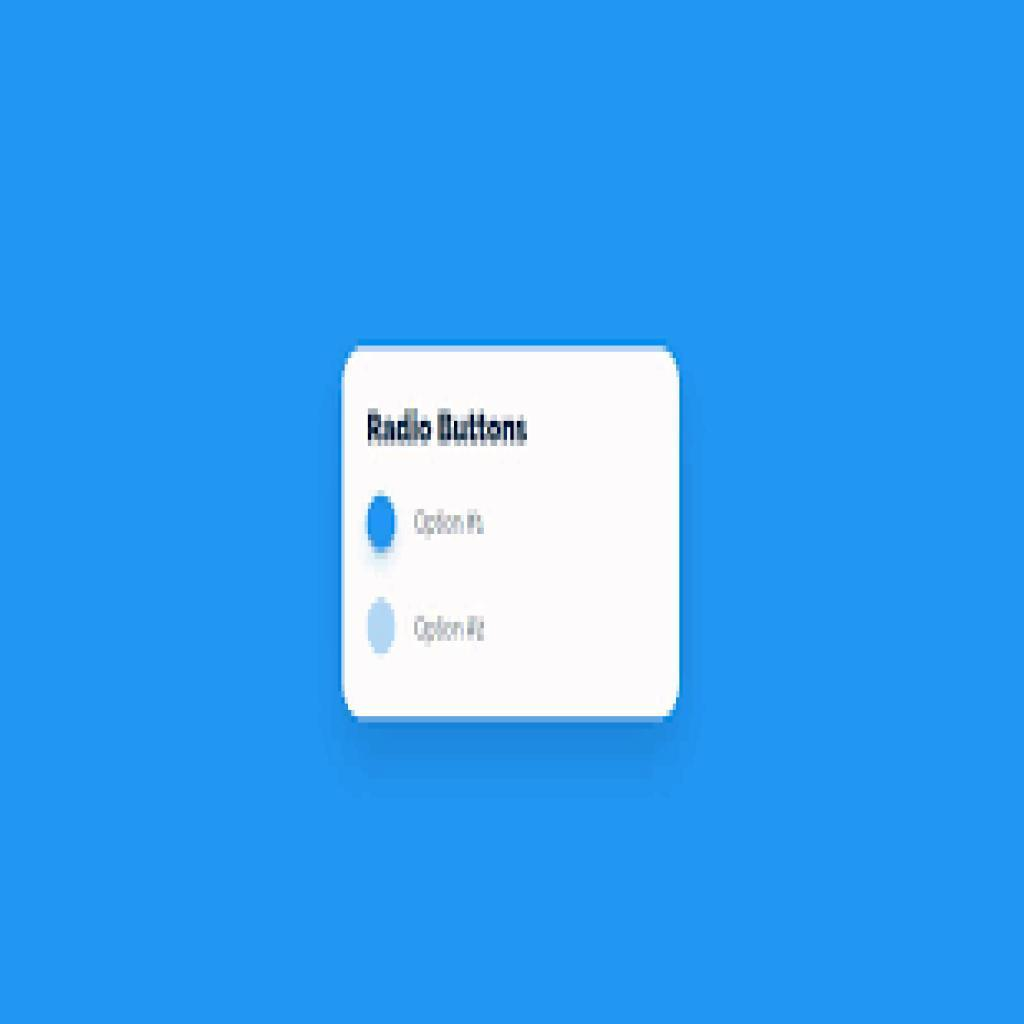label: (365, 404, 533, 457), (408, 614, 497, 654), (411, 504, 492, 547)
radio: (364, 492, 398, 559), (365, 594, 398, 659)
